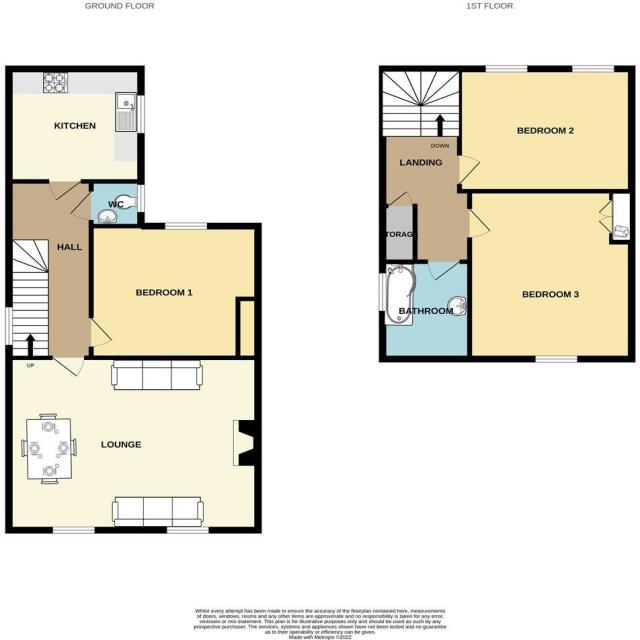DOOR: (456, 154, 482, 186), (466, 208, 492, 239), (426, 259, 461, 282), (51, 355, 85, 378), (69, 190, 94, 221), (88, 317, 113, 347), (48, 179, 82, 201)
ROOM: (466, 189, 636, 362), (88, 222, 262, 360), (456, 65, 636, 194), (5, 65, 145, 201)
WINDOW: (377, 272, 388, 313), (484, 64, 529, 74), (571, 64, 616, 73), (534, 355, 579, 363), (51, 526, 96, 534), (166, 526, 210, 534), (164, 222, 208, 230), (5, 306, 13, 346), (137, 94, 145, 134), (137, 184, 145, 213)
